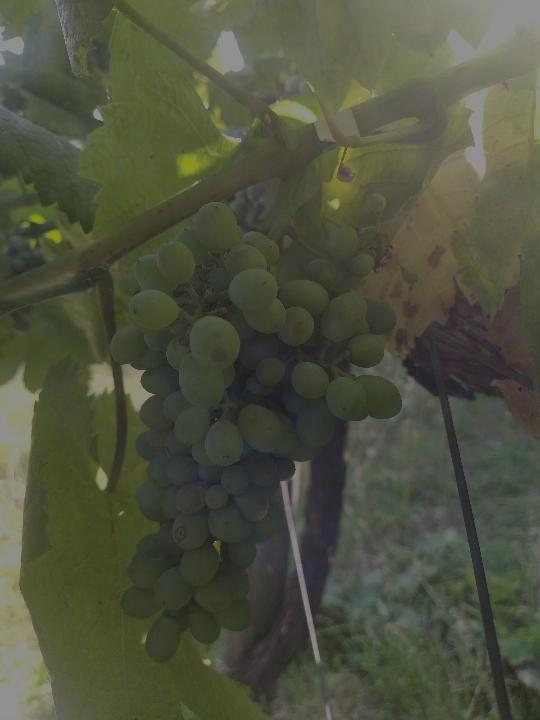grape: (104, 185, 410, 672)
